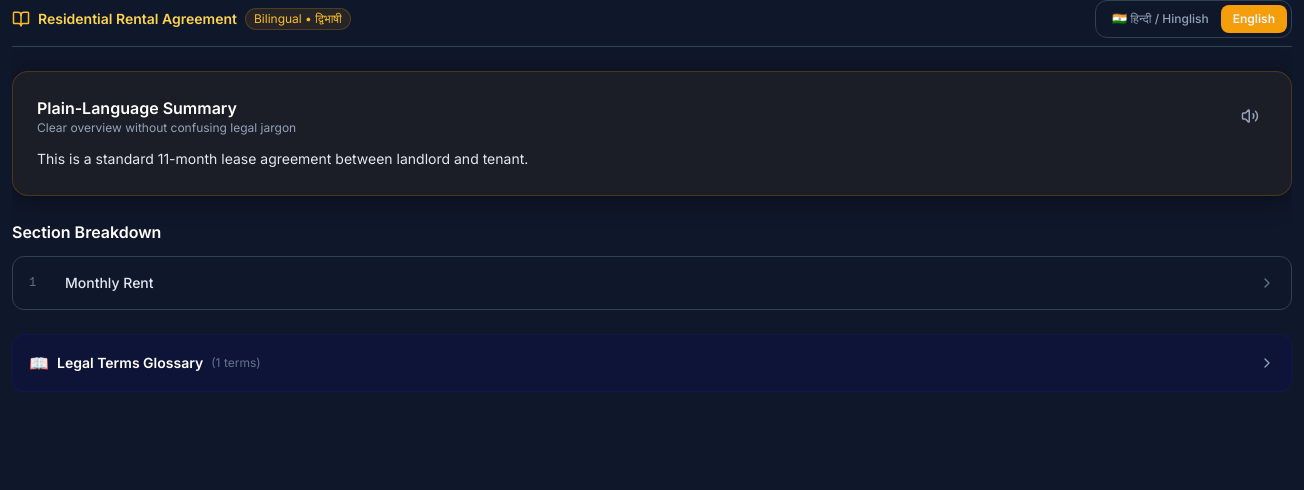
DocumentViewer › renders jargon terms glossary and expands correctly
Click the button "📖 Legal Terms Glossary (1 terms)" at (130, 362), box [12,334,1292,392]
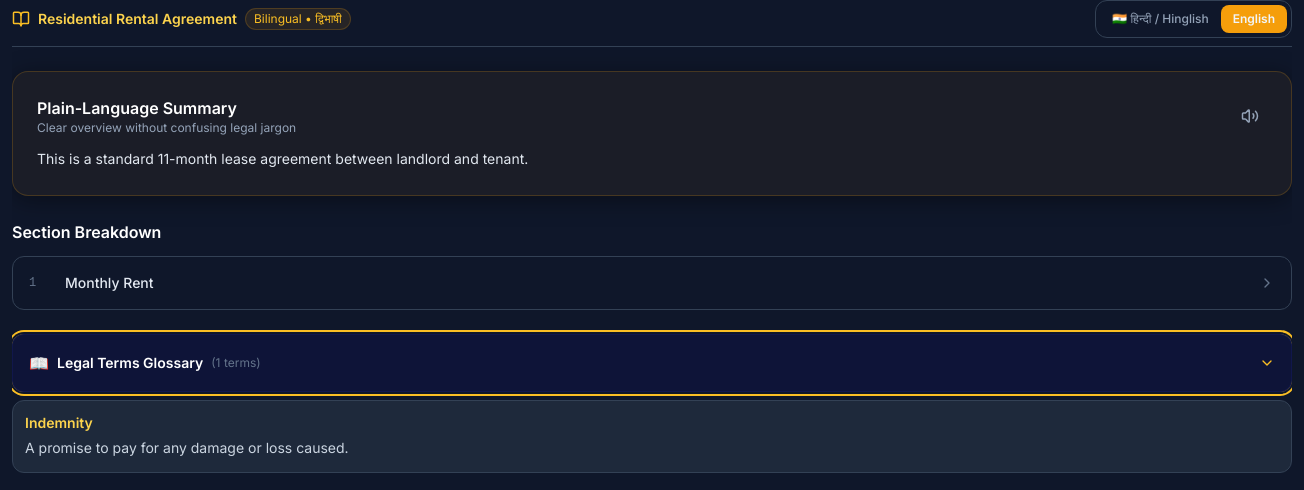
Expected: the text "Indemnity" is shown, [25,414,93,431]
Expected: the text "A promise to pay for any damage or loss caused." is shown, [25,439,349,456]
